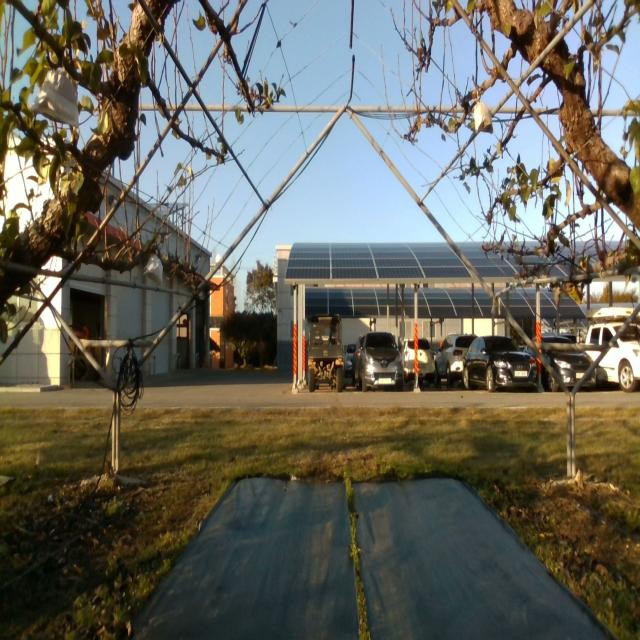pearbags: (28, 70, 79, 127), (143, 249, 163, 290), (474, 91, 493, 133)
